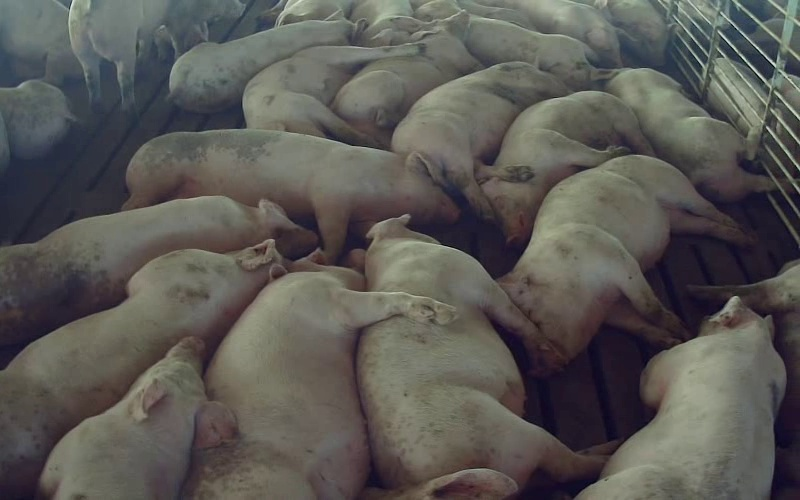pig: (0, 240, 284, 499), (358, 216, 609, 499), (184, 266, 453, 499), (499, 155, 751, 361), (0, 196, 316, 345), (124, 129, 460, 261), (576, 297, 785, 499), (39, 337, 236, 499), (392, 62, 569, 220), (481, 91, 653, 246), (592, 68, 775, 201), (242, 44, 420, 146), (169, 19, 355, 112), (463, 15, 592, 90)
